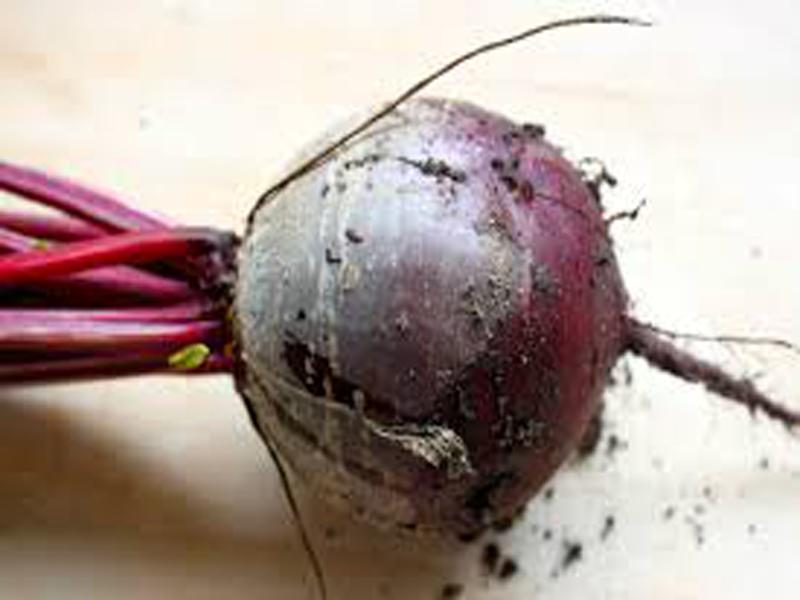Beet: (6, 13, 800, 534)
